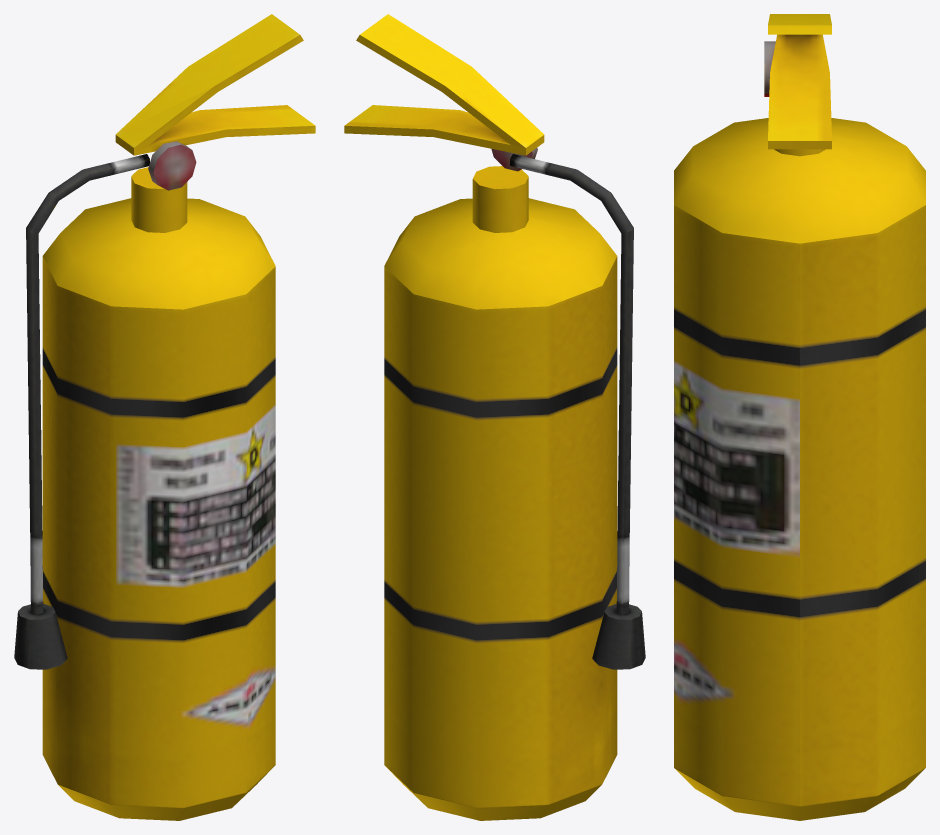
File: extinguisherYellow.gltf
3 renders of one model, left to right at view 1: azimuth 30°, elevation 25°; view 2: azimuth 150°, elevation 25°; view 3: azimuth 270°, elevation 25°, orthographic. The views are drawn at different scales.
Visible parts, largest first — view 1: dextinguisher; view 2: dextinguisher; view 3: dextinguisher.
Part boxes in pixels (<box>): dextinguisher: <box>14,14,315,820</box>; dextinguisher: <box>344,14,645,820</box>; dextinguisher: <box>674,14,925,820</box>.
Bounding box in the file's own units: 1.85 × 4.51 × 1.26.
Materials: 1 (1 with a texture image).
